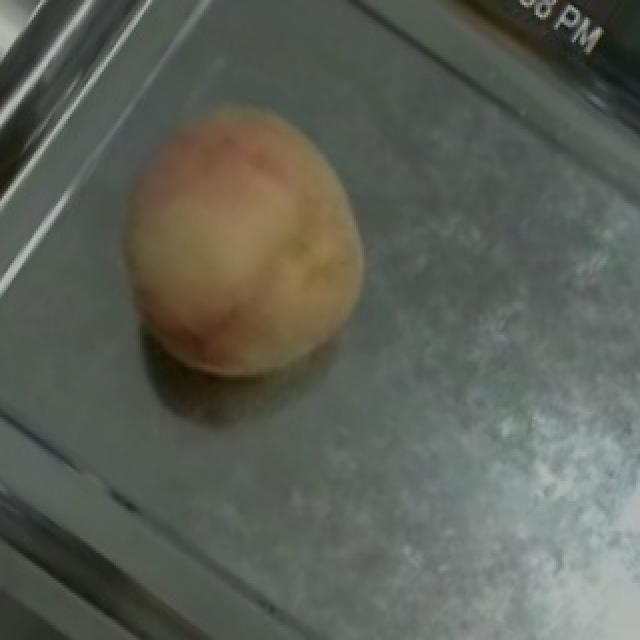Fruit: (76, 60, 416, 434)
